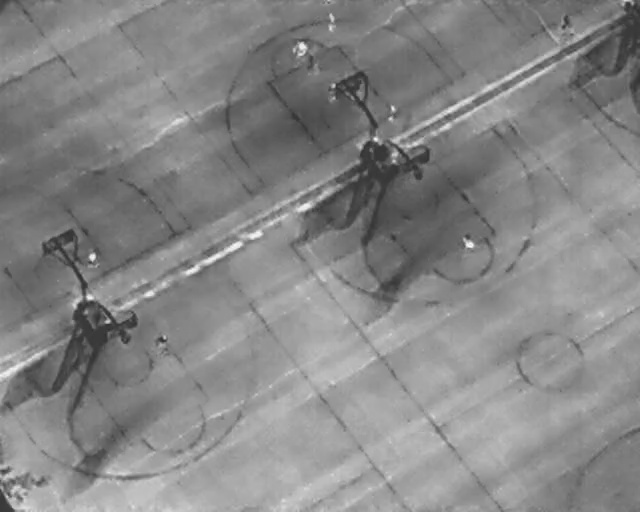Person: (288, 35, 311, 63), (152, 329, 171, 351), (560, 12, 575, 36), (384, 102, 399, 124), (326, 80, 339, 104), (461, 232, 476, 252), (306, 53, 319, 76), (86, 249, 100, 270), (326, 9, 338, 33)
